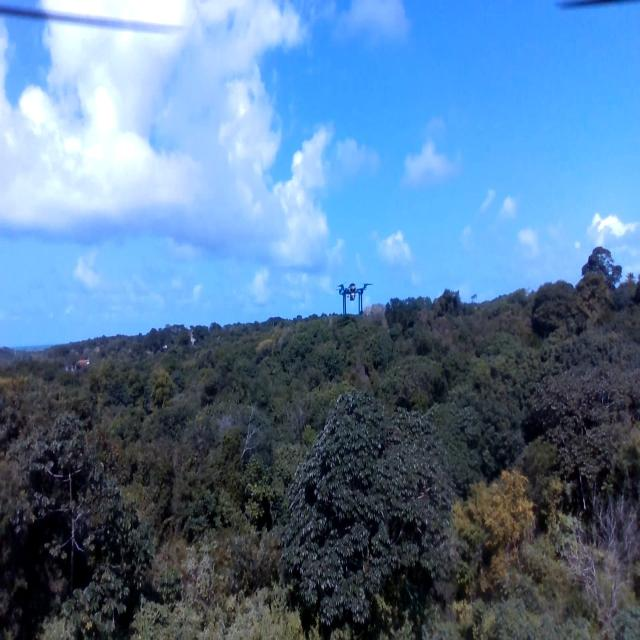-uav-: (329, 272, 377, 326)
